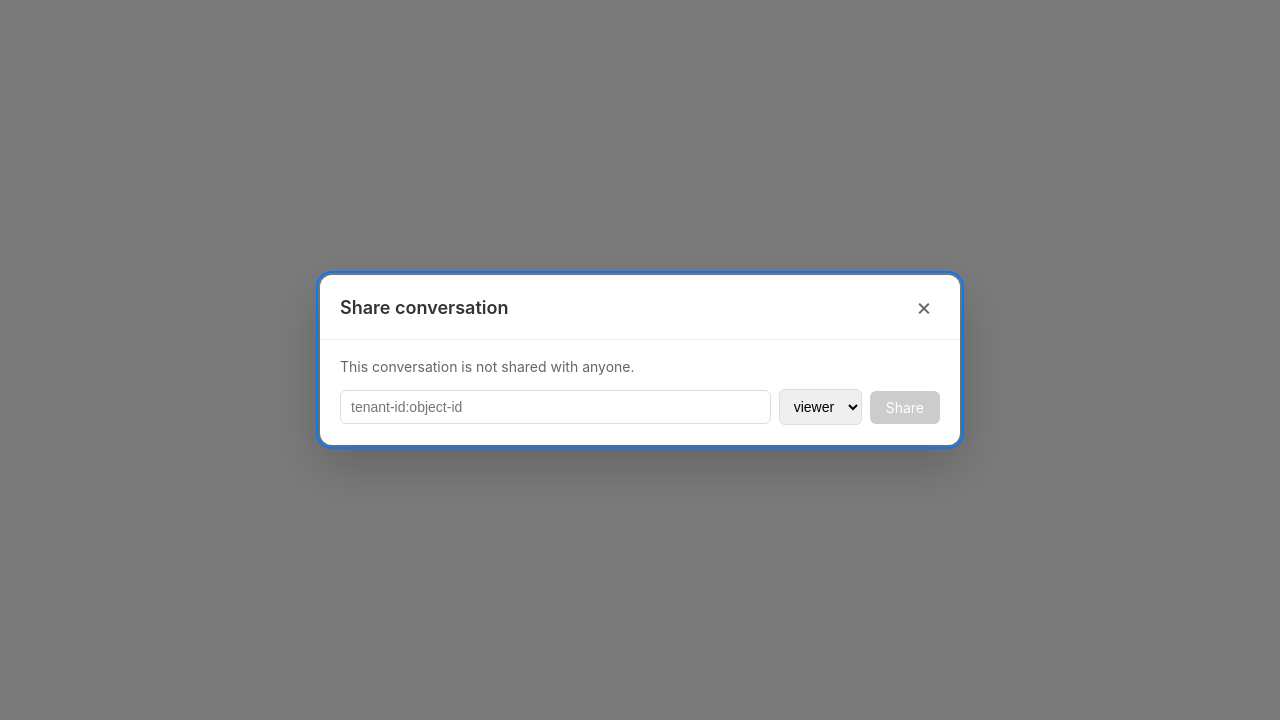
Test case: ShareConversationModal sharing_unavailable › disables the add control and explains that sharing is off on this host
Type "tid-1:oid-b" into the field with test id "share-subject-input" at coordinates (555, 407), box x1=340 y1=390 x2=771 y2=424
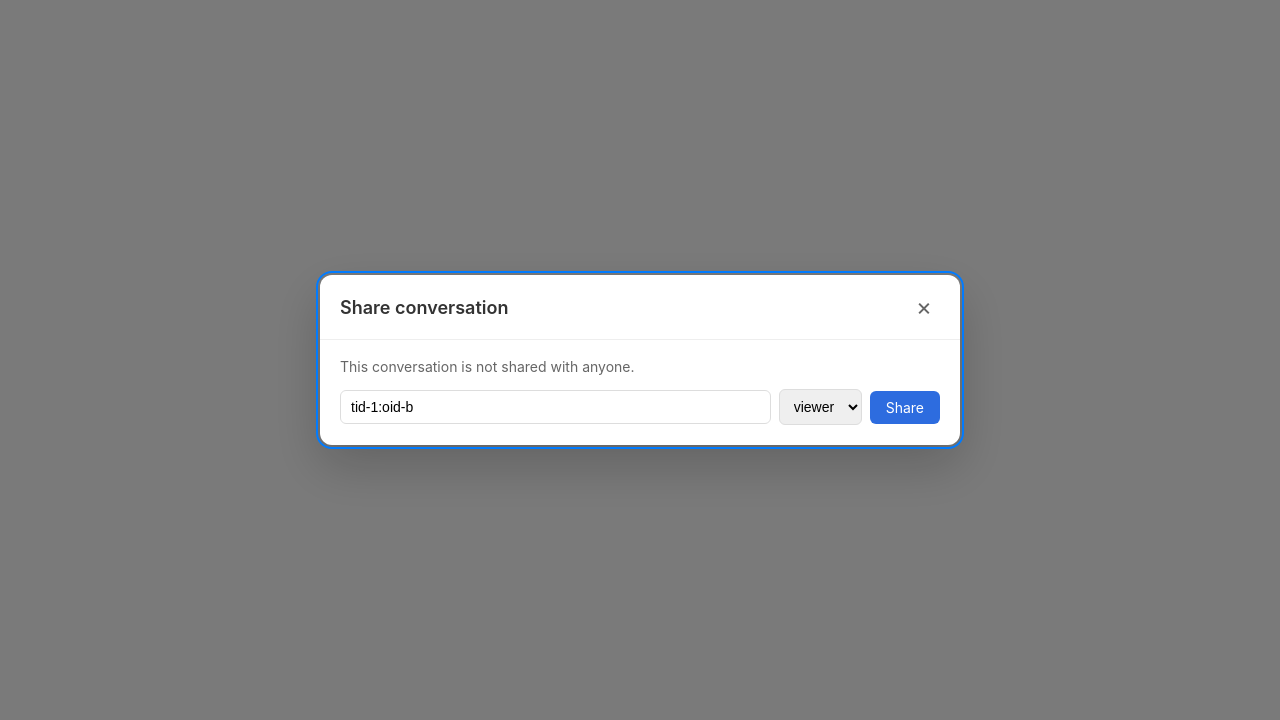
Click the button with test id "share-add-button" at coordinates (905, 407), box x1=870 y1=390 x2=940 y2=424
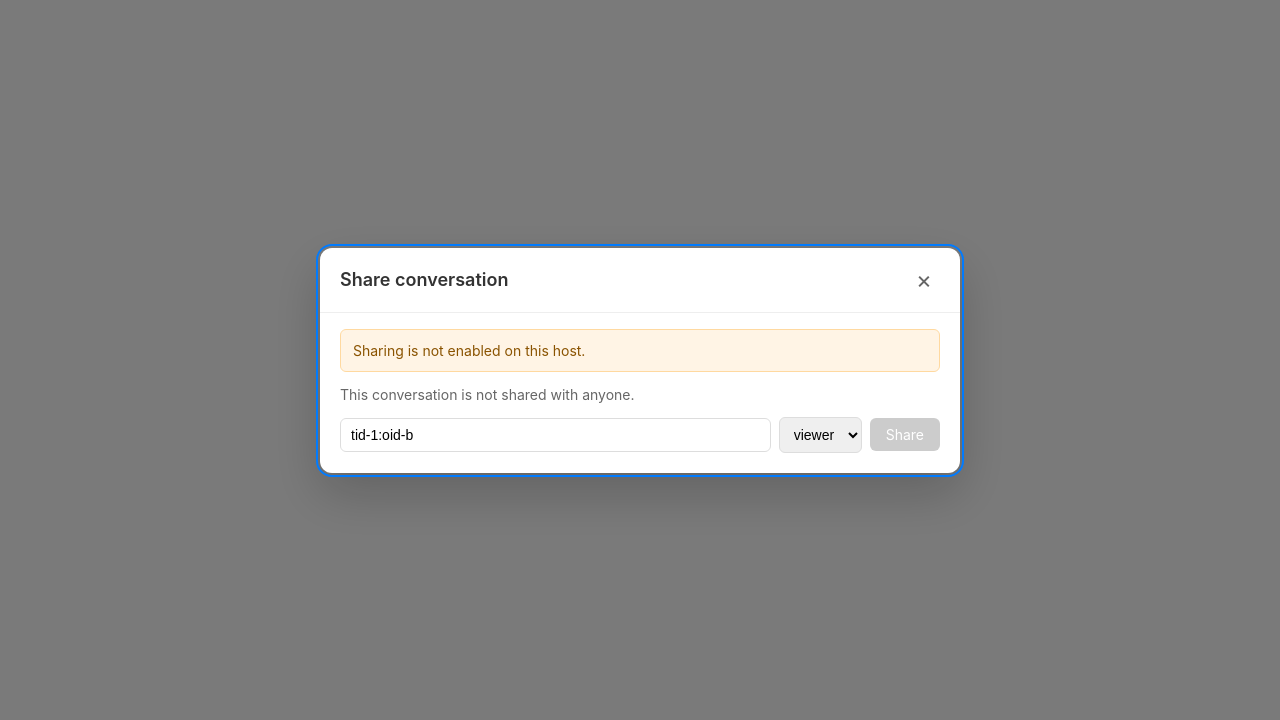
Check: the text with test id "share-refusal" shows "not enabled on this host", box x1=353 y1=342 x2=585 y2=358
Check: the button with test id "share-add-button" is disabled, box x1=870 y1=418 x2=940 y2=451
